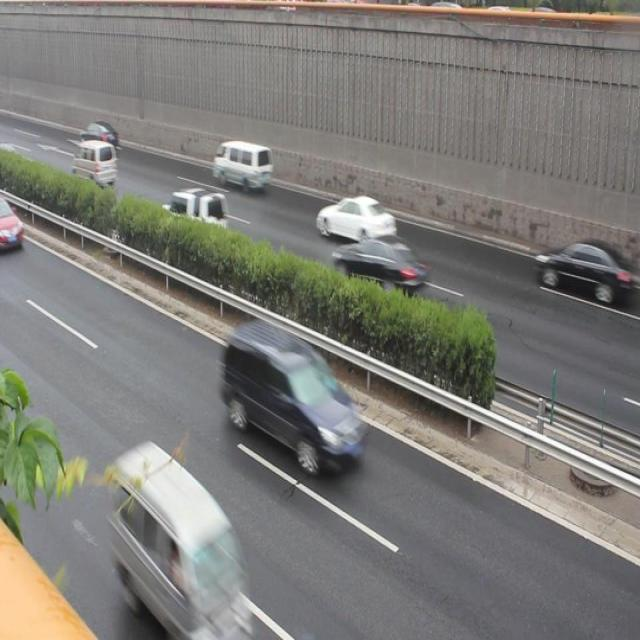car: (534, 241, 618, 307), (331, 237, 424, 294), (318, 193, 396, 248), (159, 190, 227, 249), (80, 122, 117, 154)
truck: (112, 442, 243, 625), (223, 317, 360, 474), (212, 139, 271, 193), (71, 142, 118, 190)
